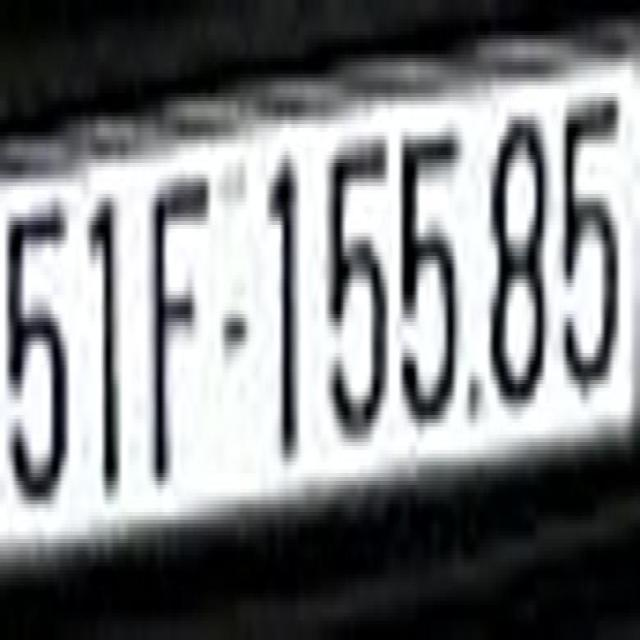1: (87, 181, 124, 498), (265, 144, 301, 462)
5: (3, 190, 72, 508), (325, 126, 390, 448), (562, 84, 622, 402), (399, 119, 459, 432)
8: (488, 101, 547, 419)
F: (150, 159, 211, 485)
